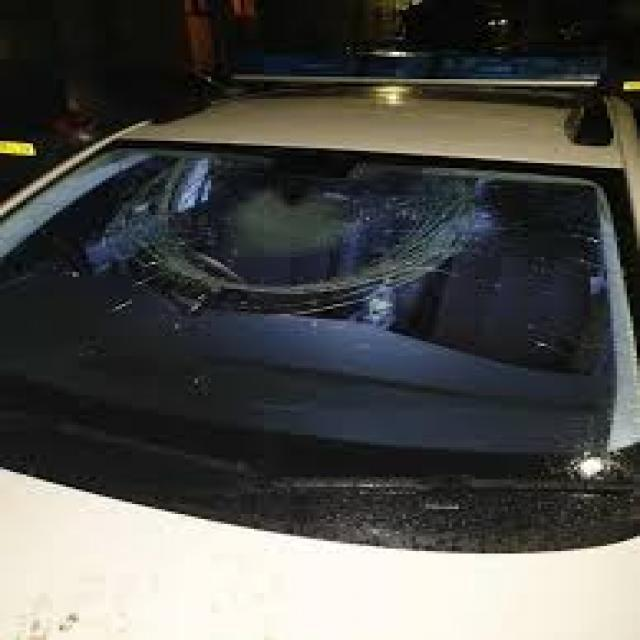damaged-windscreen: (0, 138, 640, 484)
